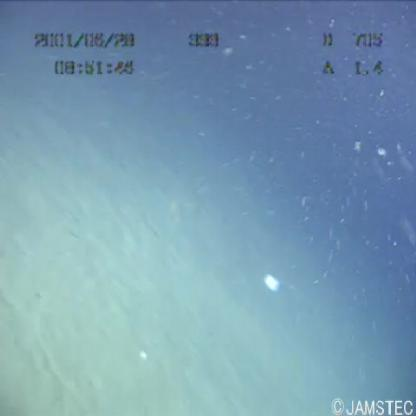Rác: (259, 267, 284, 298)
